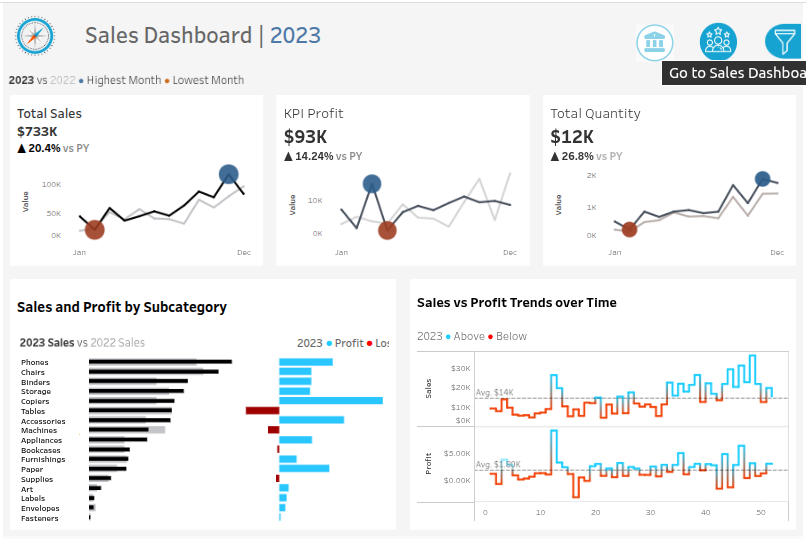

What the dashboard file says about the page in this screenshot:
{"tool":"tableau","page":{"name":"Sales Dashboard","canvas":[1200,800],"ordinal":1},"visuals":[{"type":"text","box":[0,0,600,94]},{"type":"blank","box":[931,10,256,110]},{"type":"image","param":"Image/Icon - Logo.png","box":[10,16,75,66]},{"type":"dashboard-object","box":[1023,29,100,59]},{"type":"dashboard-object","box":[1132,30,74,55]},{"type":"dashboard-object","box":[934,32,88,56]},{"type":"worksheet","title":"Legend KPI","mark":"Automatic","box":[0,94,1200,44]},{"type":"text","box":[931,120,256,51]},{"type":"worksheet","title":"KPI Sales","mark":"Line","rows":["Calculation_0289757751775236"],"cols":["Order Date"],"box":[0,138,400,266]},{"type":"worksheet","title":"KPI Profit","mark":"Line","rows":["Calculation_0395036185194498"],"cols":["Order Date"],"box":[400,138,400,266]},{"type":"worksheet","title":"KPI Quantity","mark":"Line","rows":["Calculation_0395036220452877"],"cols":["Order Date"],"box":[800,138,400,266]},{"type":"parameter","param":"[Parameters].[Parameter 1]","box":[931,171,256,52]},{"type":"blank","box":[931,223,256,80]},{"type":"text","box":[931,303,256,31]},{"type":"filter","title":"KPI Sales","param":"[federated.1bz8o1w07ax03c1h8ps1b16zfw16].[none:Category:nk]","box":[931,334,256,52]},{"type":"filter","title":"KPI Sales","param":"[federated.1bz8o1w07ax03c1h8ps1b16zfw16].[none:Sub-Category:nk]","box":[931,386,256,52]},{"type":"text","box":[17,421,566,68]},{"type":"text","box":[617,421,566,55]},{"type":"blank","box":[931,438,256,90]},{"type":"text","box":[617,483.1,566,31]},{"type":"worksheet","title":"Legend Subcategory","mark":"Automatic","box":[17,489,420,38]},{"type":"text","box":[437,489,146,38]},{"type":"worksheet","title":"Weekly Sales","mark":"Automatic","rows":["Calculation_0289757738373120","Calculation_0395036184408064"],"cols":["Order Date"],"box":[617,517.8,566,265.2]},{"type":"worksheet","title":"Subcategory Comparison","mark":"Bar","rows":["Sub-Category","Calculation_0395036233932814"],"cols":["CY Sales (copy)_0289757739466753","Calculation_0289757738373120","Calculation_0395036184408064"],"box":[17,527,566,256]},{"type":"text","box":[931,528,256,31]},{"type":"filter","title":"KPI Sales","param":"[federated.1bz8o1w07ax03c1h8ps1b16zfw16].[none:Region:nk]","box":[931,559,256,52]},{"type":"filter","title":"KPI Sales","param":"[federated.1bz8o1w07ax03c1h8ps1b16zfw16].[none:State:nk]","box":[931,611,256,52]},{"type":"filter","title":"KPI Sales","param":"[federated.1bz8o1w07ax03c1h8ps1b16zfw16].[none:City:nk]","box":[931,663,256,52]}]}

Visuals, with their boxes in screenshot pixels (x1, y1, x2, y2), scaled from the page's 1200x800 canvas onto the 806x539 screenshot:
text: box(0, 0, 403, 63)
blank: box(625, 7, 797, 81)
image: box(7, 11, 57, 55)
dashboard-object: box(687, 20, 754, 59)
dashboard-object: box(760, 20, 805, 57)
dashboard-object: box(627, 22, 686, 59)
"Legend KPI" worksheet: box(0, 63, 805, 93)
text: box(625, 81, 797, 115)
"KPI Sales" worksheet (Line marks): box(0, 93, 269, 272)
"KPI Profit" worksheet (Line marks): box(269, 93, 537, 272)
"KPI Quantity" worksheet (Line marks): box(537, 93, 805, 272)
parameter: box(625, 115, 797, 150)
blank: box(625, 150, 797, 204)
text: box(625, 204, 797, 225)
"KPI Sales" filter: box(625, 225, 797, 260)
"KPI Sales" filter: box(625, 260, 797, 295)
text: box(11, 284, 392, 329)
text: box(414, 284, 795, 321)
blank: box(625, 295, 797, 356)
text: box(414, 325, 795, 346)
"Legend Subcategory" worksheet: box(11, 329, 294, 355)
text: box(294, 329, 392, 355)
"Weekly Sales" worksheet: box(414, 349, 795, 528)
"Subcategory Comparison" worksheet (Bar marks): box(11, 355, 392, 528)
text: box(625, 356, 797, 377)
"KPI Sales" filter: box(625, 377, 797, 412)
"KPI Sales" filter: box(625, 412, 797, 447)
"KPI Sales" filter: box(625, 447, 797, 482)
